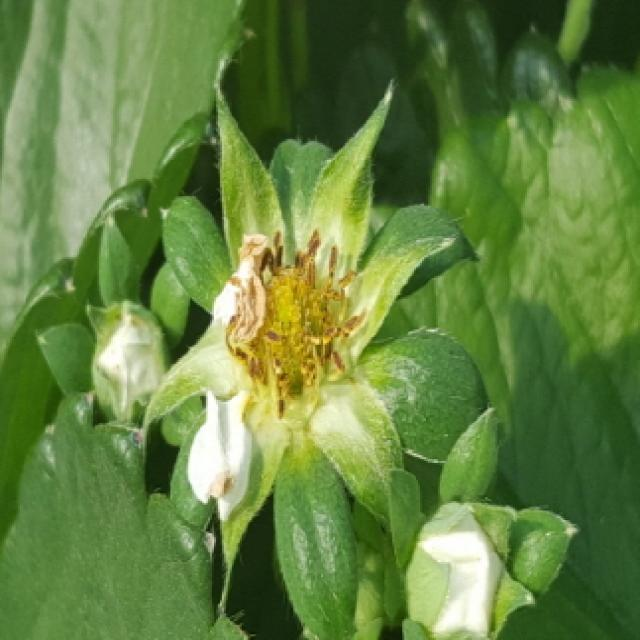Blossom Blight: (224, 227, 372, 421)
